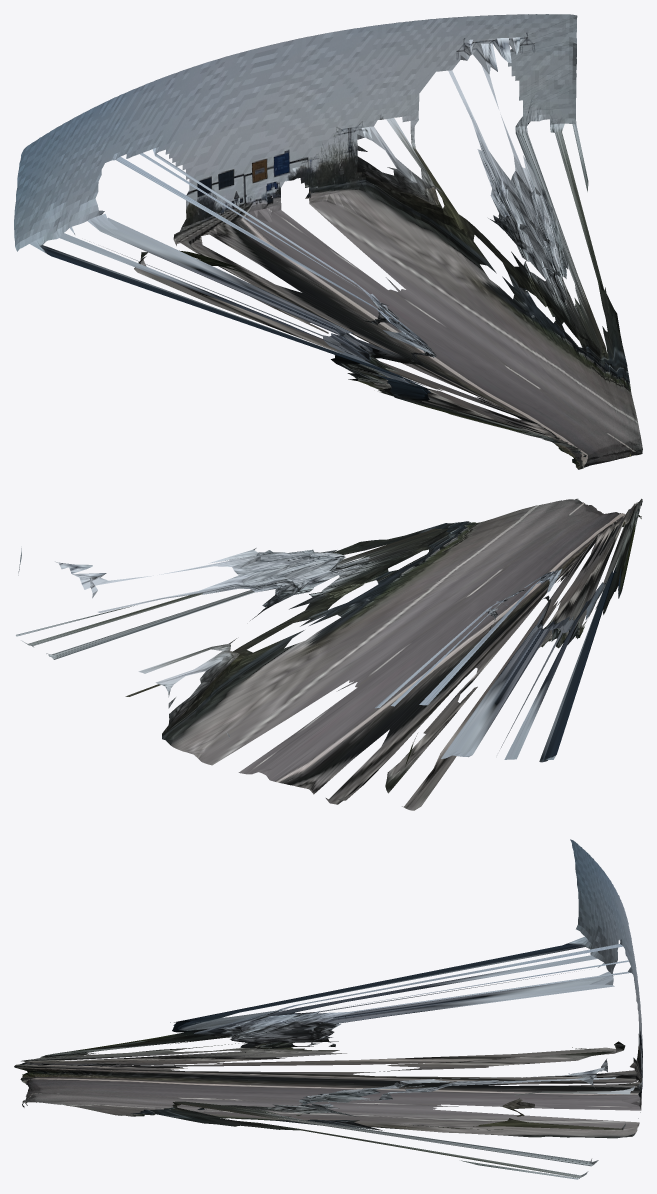
The picture shows the model from 3 angles, top to bottom: view 1: azimuth 30°, elevation 25°; view 2: azimuth 150°, elevation 25°; view 3: azimuth 270°, elevation 25°; orthographic projection. The views are drawn at different scales.
Parts seen in each view (by area): view 1: defaultobject; view 2: defaultobject; view 3: defaultobject.
Part boxes in pixels (bbox=[...]): defaultobject: bbox=[14, 14, 642, 469]; defaultobject: bbox=[16, 498, 642, 810]; defaultobject: bbox=[14, 839, 642, 1179].
Bounding box in the file's own units: 41.06 × 12.83 × 45.01.
Materials: 1 (1 with a texture image).
